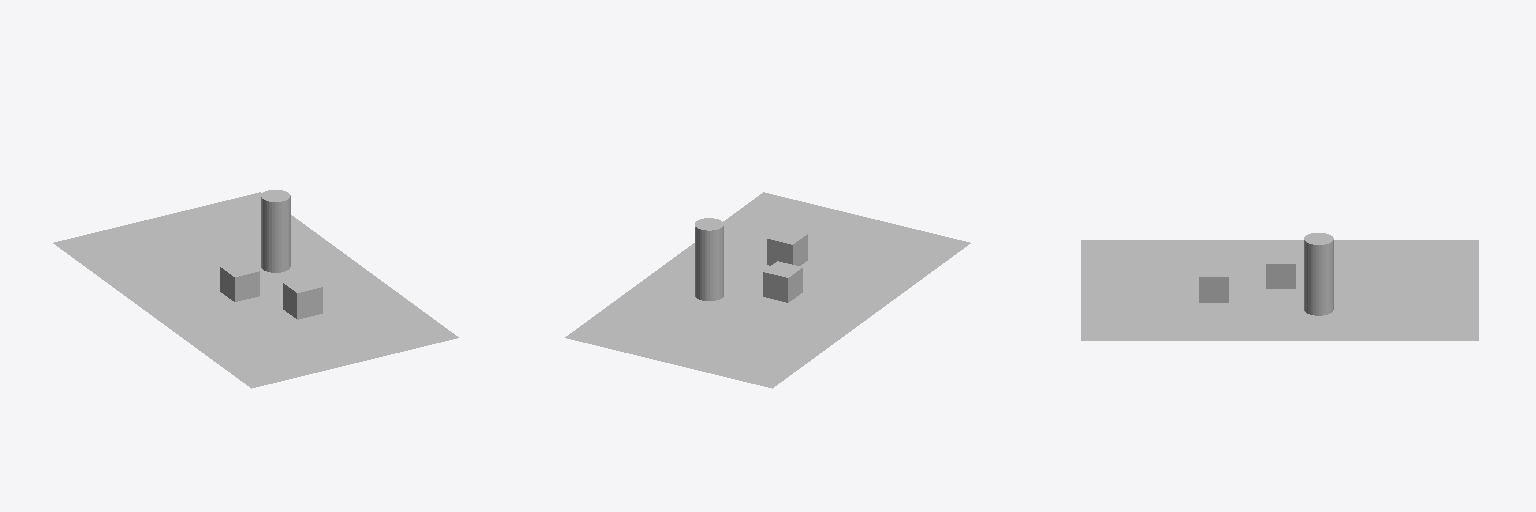
Rendered from light_test.obj.
The picture shows the model from 3 angles: view 1: azimuth 30°, elevation 25°; view 2: azimuth 150°, elevation 25°; view 3: azimuth 270°, elevation 25°; orthographic projection.
Size of the model in its own units: 16.24 by 5.42 by 26.92.